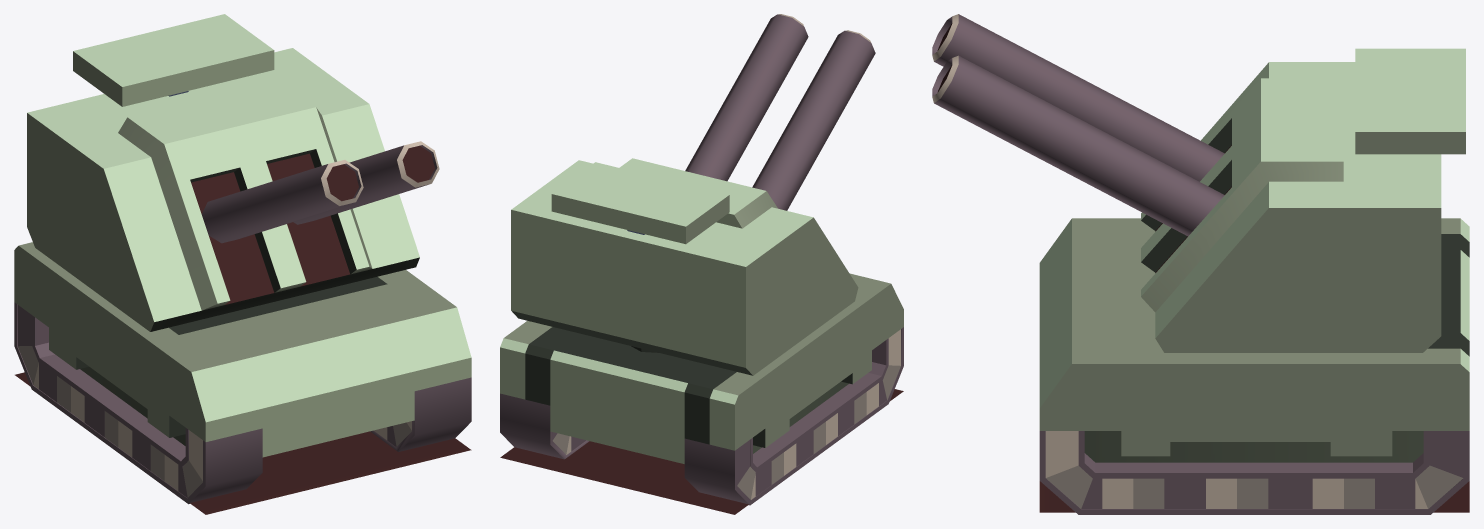
Rendered from AntiAirMesh.JadeSun.glb.
The picture shows the model from 3 angles, left to right: view 1: azimuth 30°, elevation 25°; view 2: azimuth 150°, elevation 25°; view 3: azimuth 270°, elevation 25°; orthographic projection. The views are drawn at different scales.
Visible parts, largest first — view 1: AntiAirMesh.JadeSun; view 2: AntiAirMesh.JadeSun; view 3: AntiAirMesh.JadeSun.
Boxes of the visible parts, x1,y1,x2,y2 form: AntiAirMesh.JadeSun: [14, 14, 471, 514]; AntiAirMesh.JadeSun: [500, 14, 903, 514]; AntiAirMesh.JadeSun: [932, 14, 1469, 514].
Bounding box in the file's own units: 1.4 × 1.8 × 2.18.
Materials: 1 (1 with a texture image).
